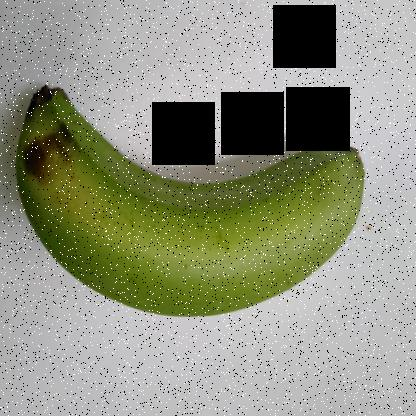freshunripe: (13, 61, 379, 345)
